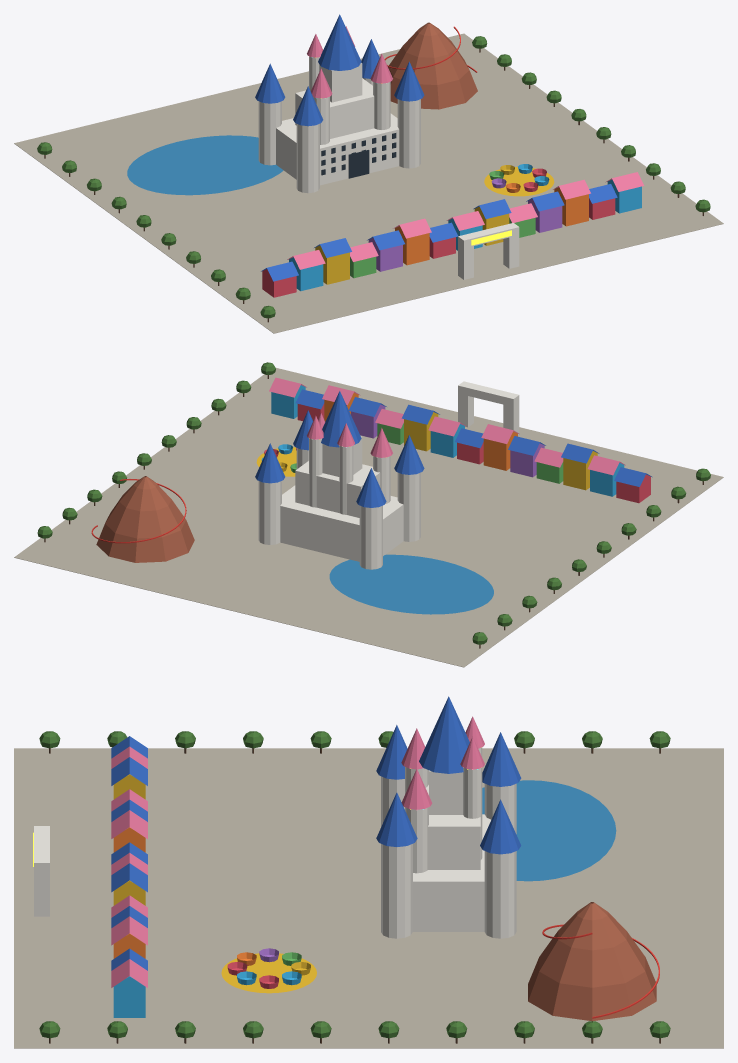
The model's file is mega_park.glb.
3 views of the same model, one above another, from view 1: azimuth 30°, elevation 25°; view 2: azimuth 150°, elevation 25°; view 3: azimuth 270°, elevation 25° (orthographic). The views are drawn at different scales.
Visible parts, largest first — view 1: MegaPark_static, spinY_s40_cups; view 2: MegaPark_static, spinY_s40_cups; view 3: MegaPark_static, spinY_s40_cups.
Boxes of the visible parts, bbox=[...] form: MegaPark_static: bbox=[14, 14, 723, 333]; spinY_s40_cups: bbox=[484, 164, 554, 196]; MegaPark_static: bbox=[14, 362, 723, 667]; spinY_s40_cups: bbox=[256, 444, 296, 476]; MegaPark_static: bbox=[14, 696, 723, 1048]; spinY_s40_cups: bbox=[221, 948, 316, 993].
Size of the model in its own units: 178 by 56 by 178.
